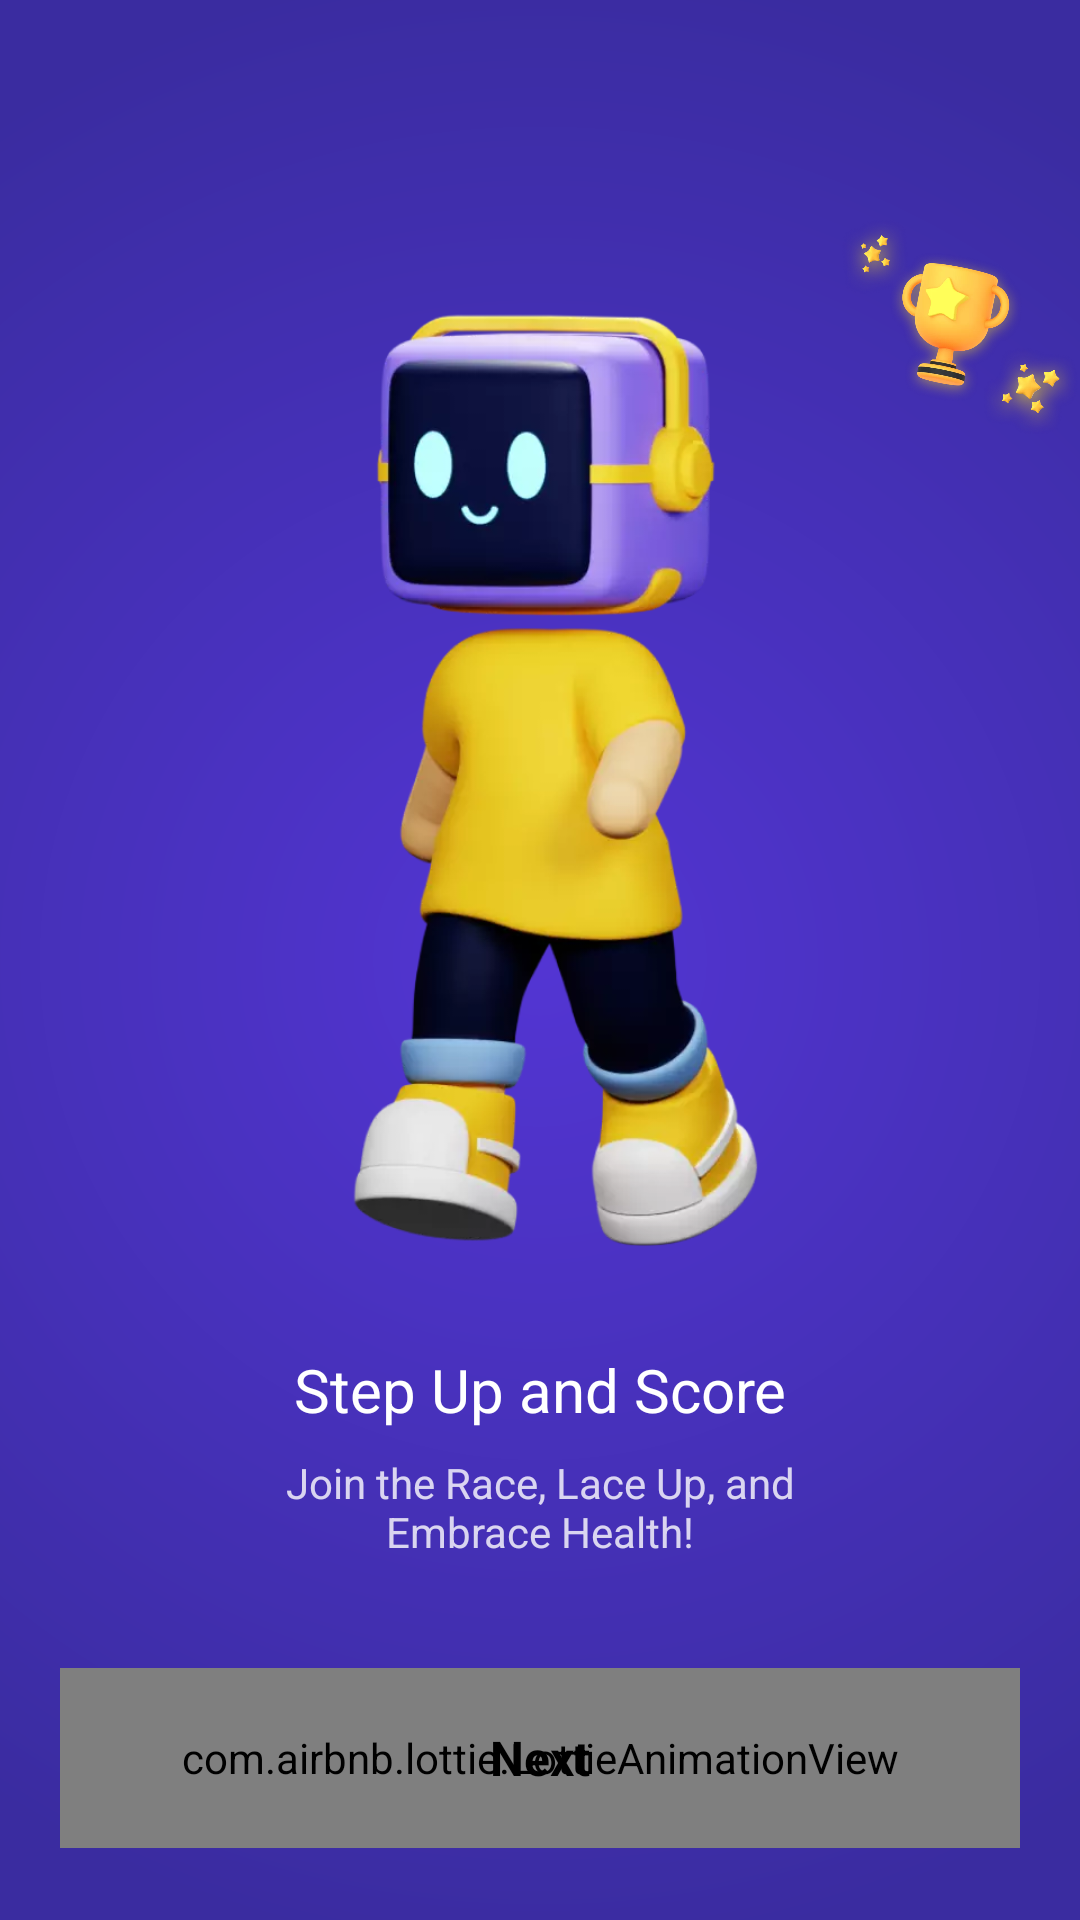

Point at icon controls on the screen. Image size 1080px×1920px, points as [x,y].
trophy: [961,326]
